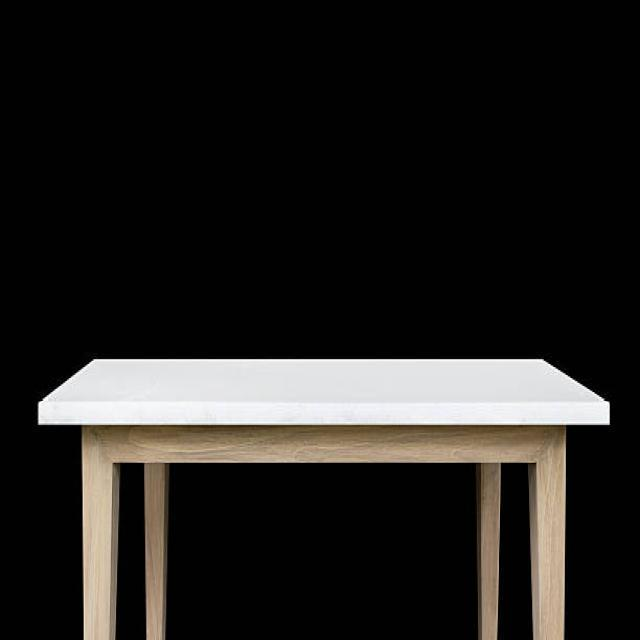table: (36, 354, 610, 638)
